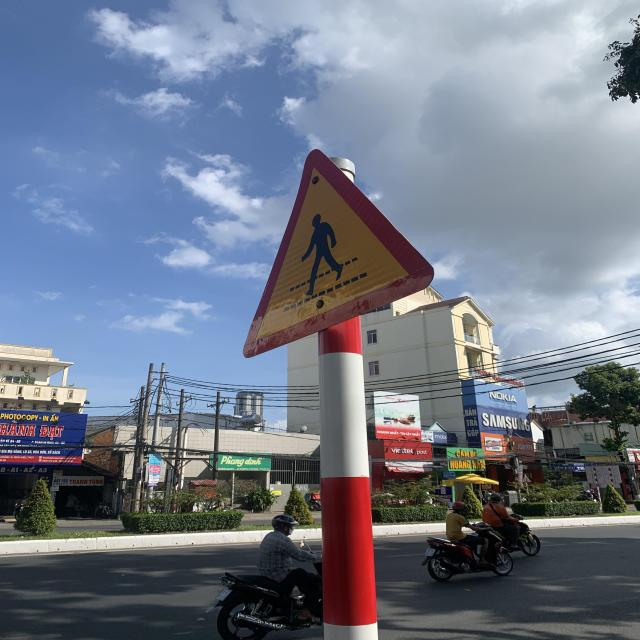Duong_Nguoi_Di_Bo_Sang_Ngang: (241, 148, 435, 358)
